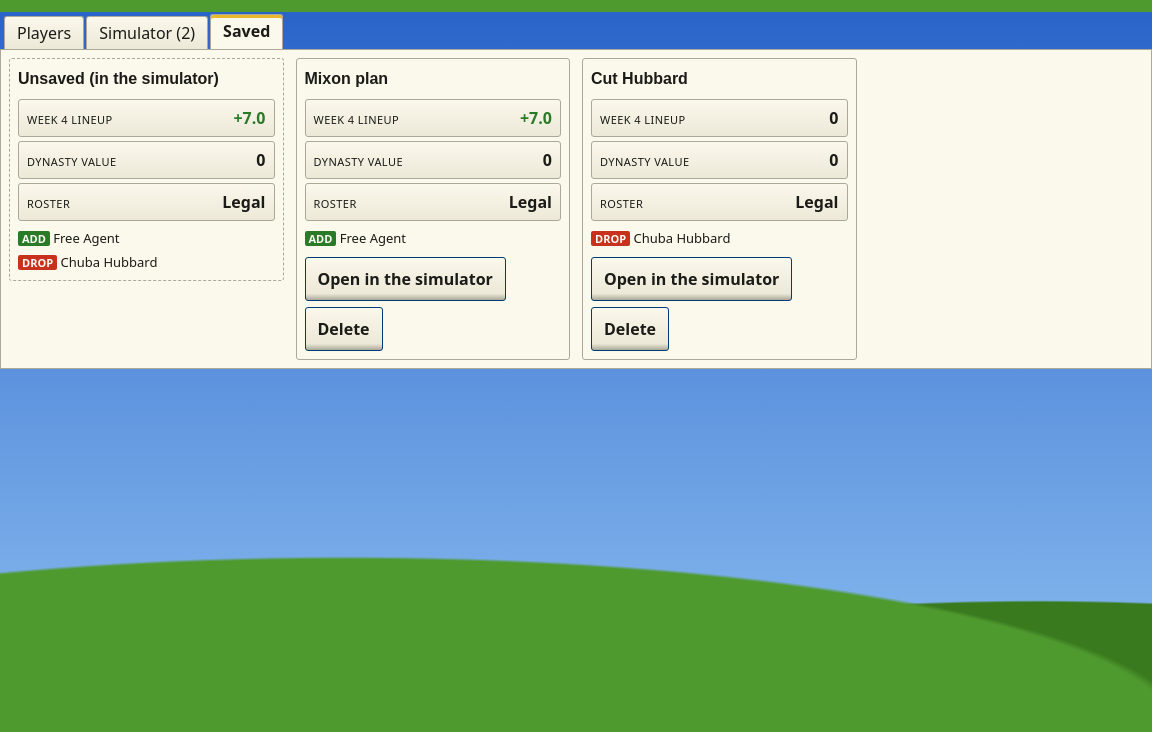
it: Players simulator › compares saved scenarios side by side, the unsaved one first
Expected: the headings read "Unsaved (in the simulator)", "Mixon plan", "Cut Hubbard", in this order, [18, 70, 219, 87]; [304, 70, 388, 87]; [591, 70, 688, 87]
Expected: the text "+7.0" below "Mixon plan" is shown, [520, 107, 552, 129]
Click the button with aria-label "Delete Cut Hubbard" at (630, 328), box [591, 306, 669, 350]
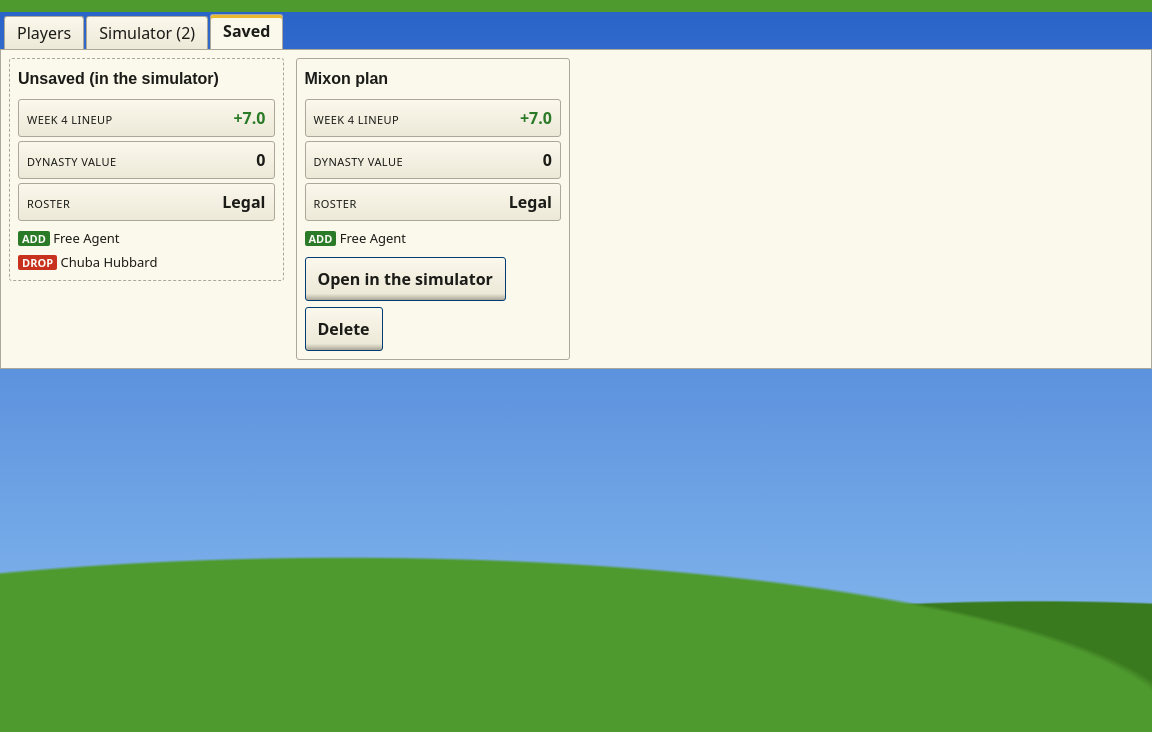
Expected: the heading "Cut Hubbard" is gone
